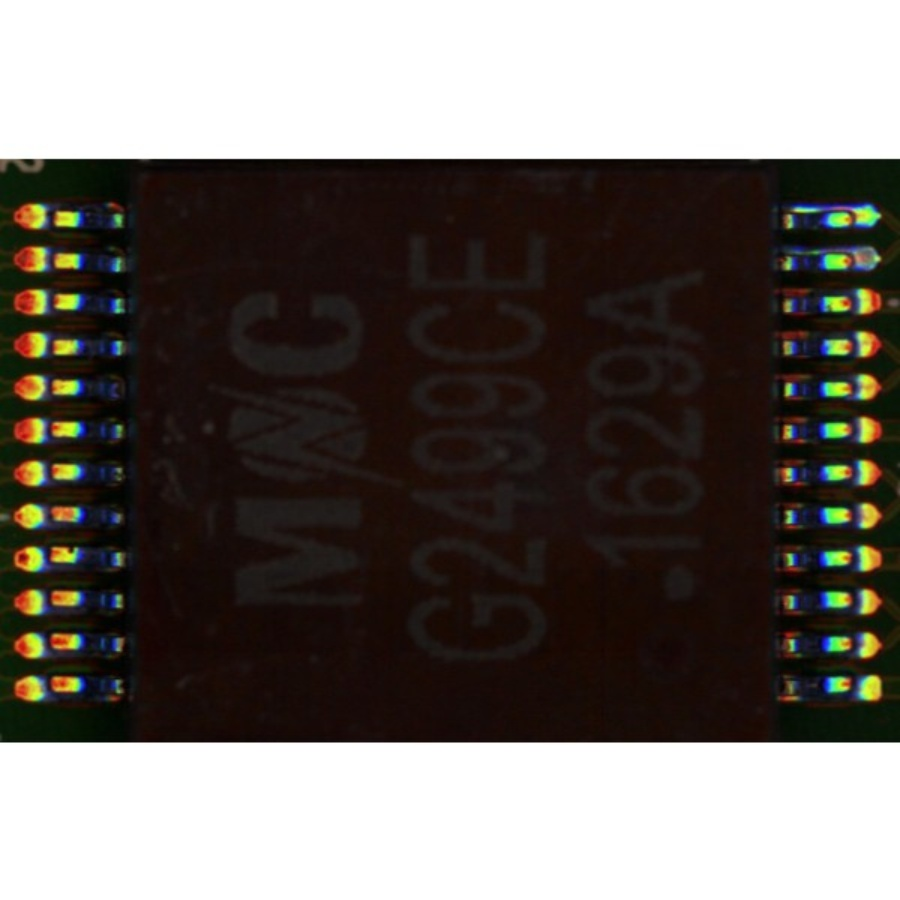Bad_podu: (845, 212, 866, 224), (844, 253, 861, 267)
Bad_qiaojiao: (788, 205, 852, 212), (778, 247, 851, 253)
